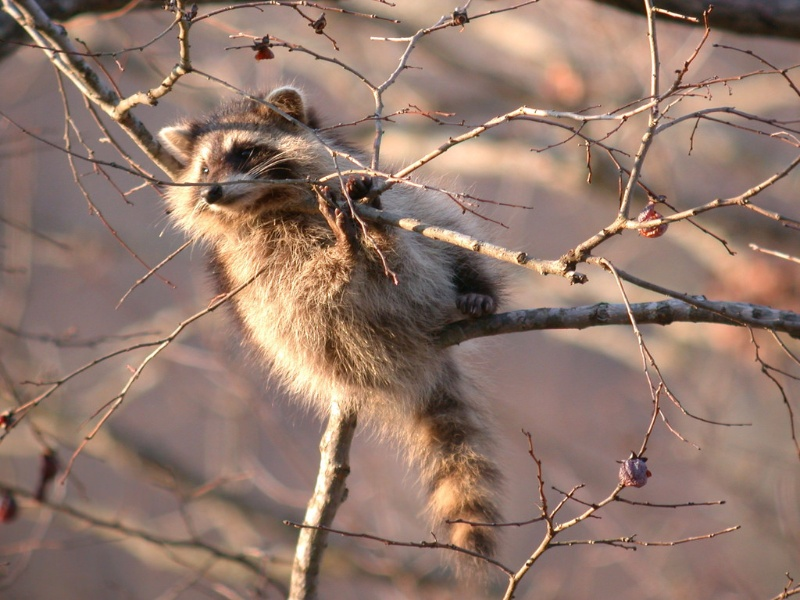raccoon: (157, 84, 509, 572)
